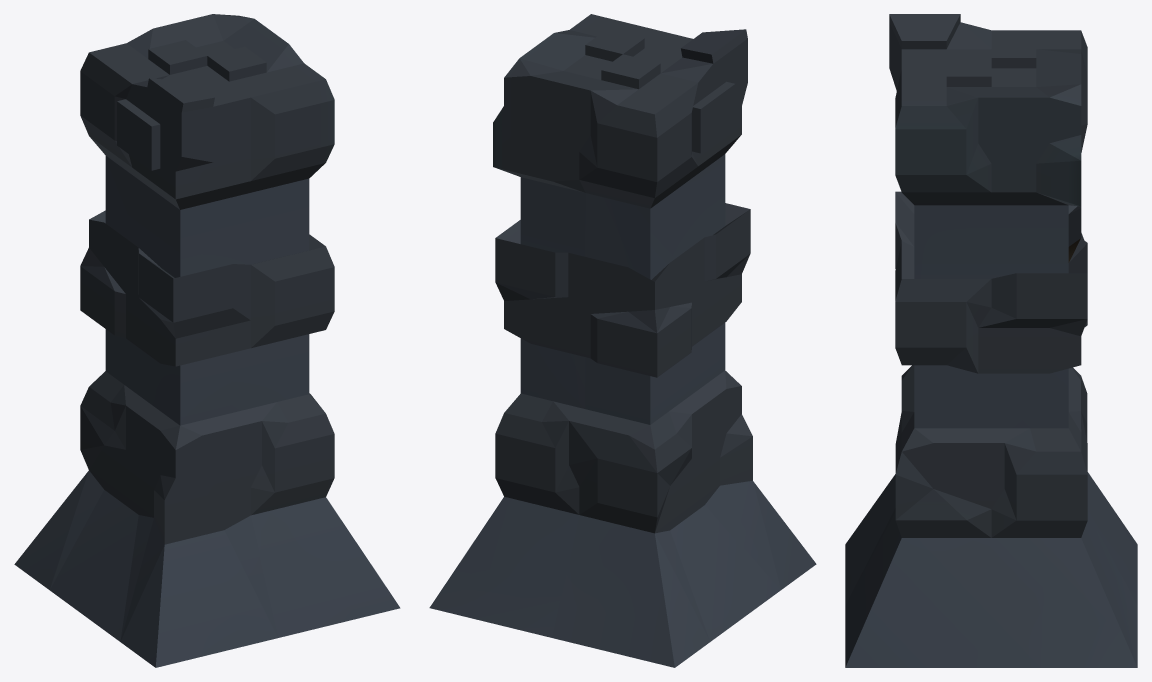
File: Pillar_1.fbx
3 views of the same model, side by side, from view 1: azimuth 30°, elevation 25°; view 2: azimuth 150°, elevation 25°; view 3: azimuth 270°, elevation 25° (orthographic). The views are drawn at different scales.
Visible parts, largest first — view 1: Pillar_1; view 2: Pillar_1; view 3: Pillar_1.
Part boxes in pixels (box(x1,y1,x2,y2)): Pillar_1: box(14, 14, 400, 667); Pillar_1: box(429, 14, 816, 667); Pillar_1: box(845, 14, 1137, 667).
Bounding box in the file's own units: 148 × 310 × 148.
Materials: 1 (1 with a texture image).
